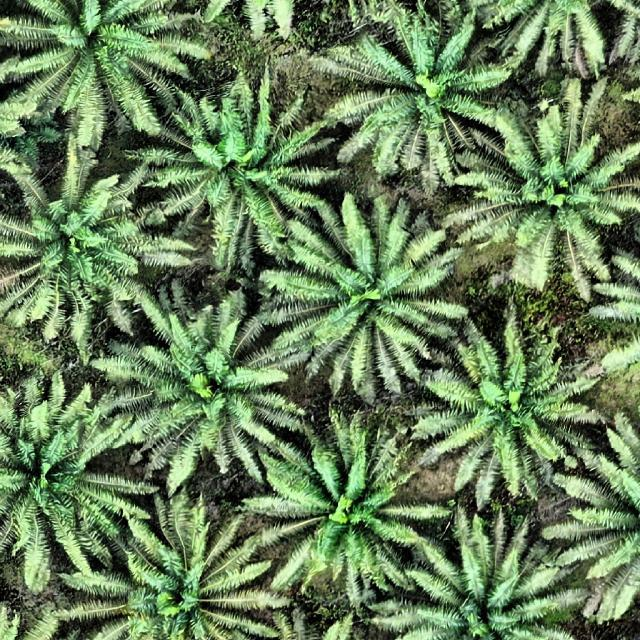Kelapa_Sawit: (267, 211, 456, 383), (0, 0, 208, 156), (124, 303, 296, 463), (474, 110, 632, 282), (256, 428, 428, 583), (162, 90, 324, 246), (431, 324, 591, 476), (336, 34, 508, 175), (0, 378, 123, 575), (3, 168, 150, 332), (90, 508, 266, 640), (406, 523, 572, 640), (564, 420, 640, 618), (476, 0, 640, 83)
